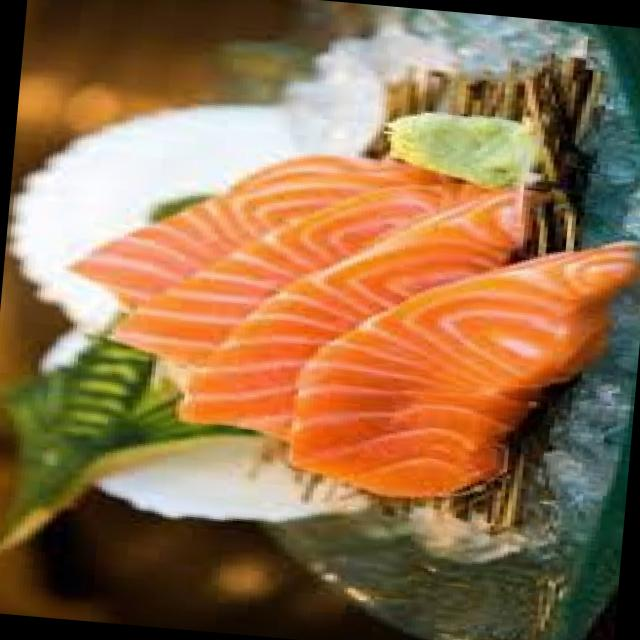Fish: (172, 169, 516, 460), (292, 215, 626, 501)
